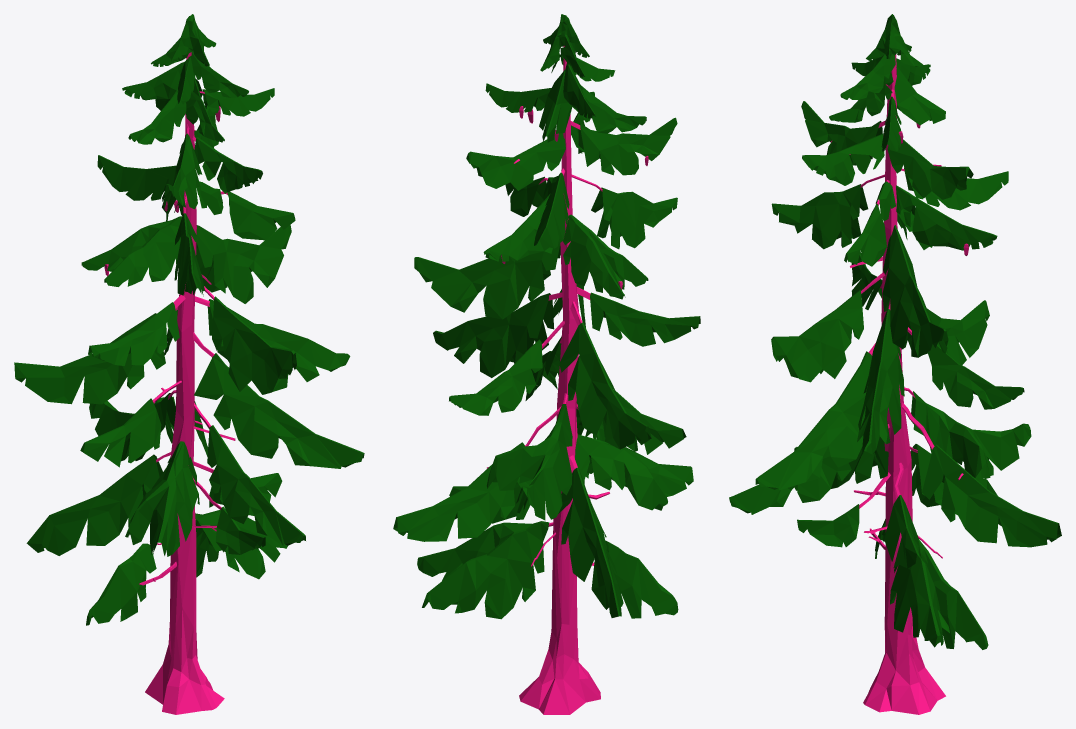
The model's file is SM_Tree_Spruce_Mature_B.fbx.
The picture shows the model from 3 angles, left to right: view 1: azimuth 30°, elevation 25°; view 2: azimuth 150°, elevation 25°; view 3: azimuth 270°, elevation 25°; orthographic projection.
Parts seen in each view (by area): view 1: SM_Tree_Spruce_Mature_B; view 2: SM_Tree_Spruce_Mature_B; view 3: SM_Tree_Spruce_Mature_B.
Boxes of the visible parts, x1,y1,x2,y2 form: SM_Tree_Spruce_Mature_B: [14, 14, 364, 714]; SM_Tree_Spruce_Mature_B: [393, 14, 700, 714]; SM_Tree_Spruce_Mature_B: [729, 14, 1061, 714].
Bounding box in the file's own units: 5.21 × 12.3 × 5.42.
